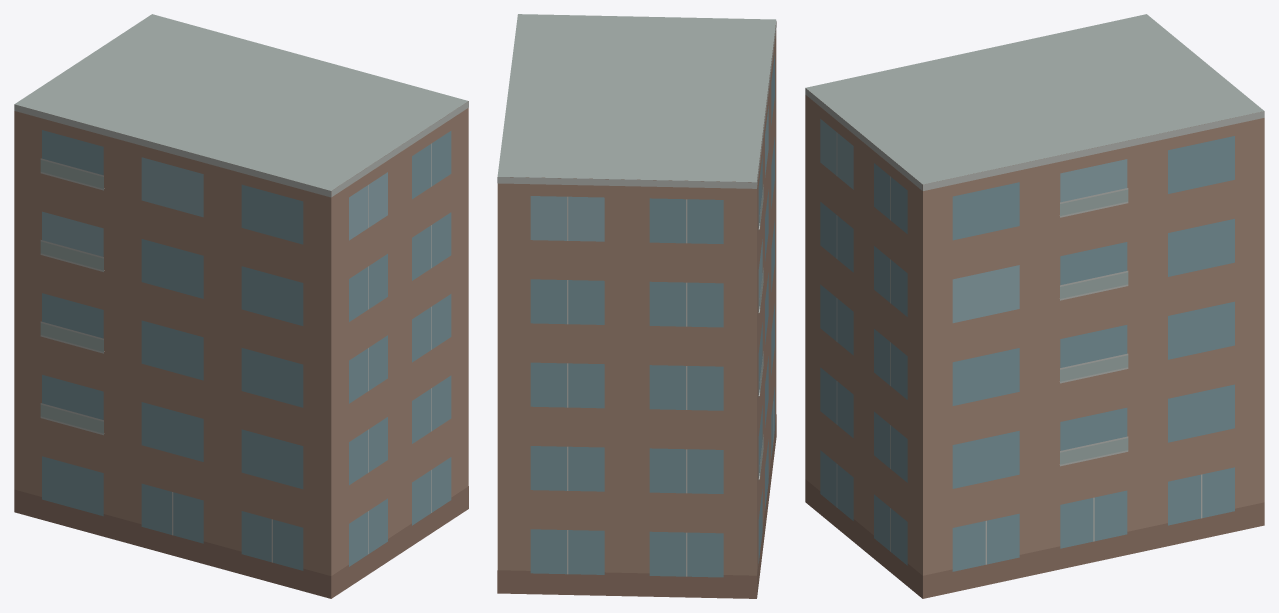
Rendered from survey-upis-32840610.glb.
3 renders of one model, left to right at view 1: azimuth 30°, elevation 25°; view 2: azimuth 150°, elevation 25°; view 3: azimuth 270°, elevation 25°, orthographic. The views are drawn at different scales.
Visible parts, largest first — view 1: survey-upis-32840610.tmp; view 2: survey-upis-32840610.tmp; view 3: survey-upis-32840610.tmp.
Boxes of the visible parts, <box> form: survey-upis-32840610.tmp: <box>14,14,468,598</box>; survey-upis-32840610.tmp: <box>497,14,776,598</box>; survey-upis-32840610.tmp: <box>805,14,1264,598</box>.
Bounding box in the file's own units: 13.43 × 15.2 × 15.28.
